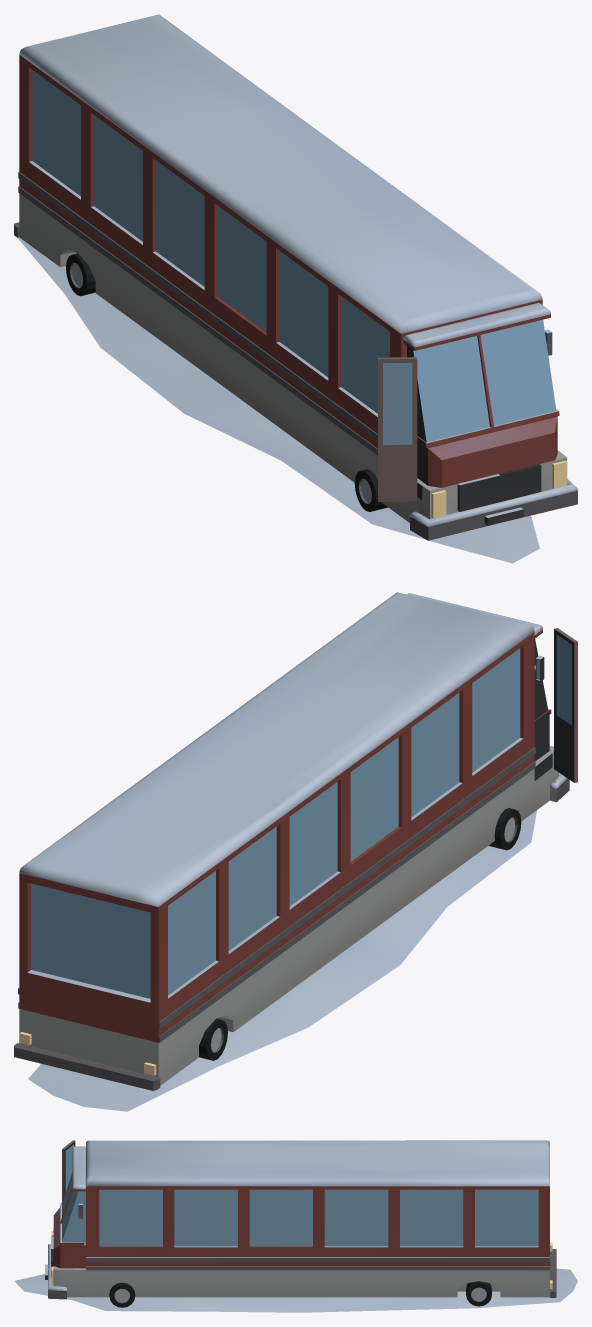
File: bus_doors.glb
The picture shows the model from 3 angles, top to bottom: view 1: azimuth 30°, elevation 25°; view 2: azimuth 150°, elevation 25°; view 3: azimuth 270°, elevation 25°; orthographic projection. The views are drawn at different scales.
Visible parts, largest first — view 1: Body, Glass; view 2: Body, Glass; view 3: Body, Glass.
Part boxes in pixels (left/top/right/bottom): Body: left=14, top=14, right=577, bottom=563; Glass: left=32, top=70, right=556, bottom=444; Body: left=14, top=592, right=577, bottom=1111; Glass: left=31, top=635, right=571, bottom=998; Body: left=14, top=1140, right=577, bottom=1312; Glass: left=62, top=1144, right=538, bottom=1246.
Bounding box in the file's own units: 3.3 × 3.3 × 13.22.
